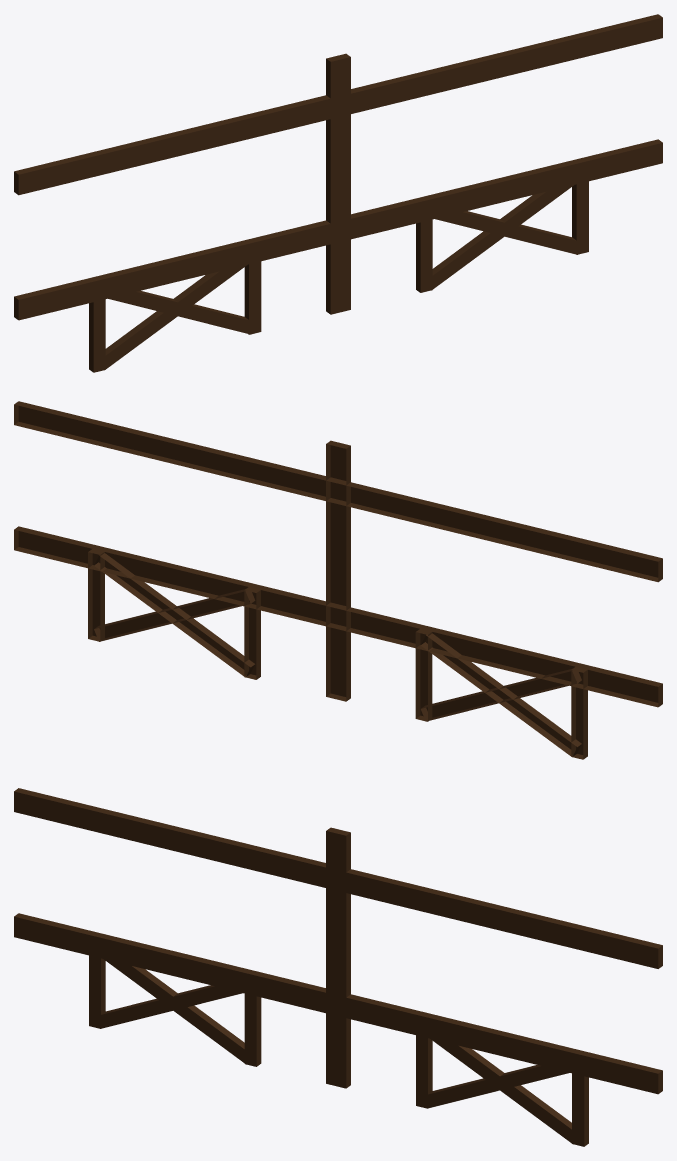
Rendered from Long Side Small Part 2.fbx.
The picture shows the model from 3 angles, top to bottom: view 1: azimuth 30°, elevation 25°; view 2: azimuth 150°, elevation 25°; view 3: azimuth 330°, elevation 25°; orthographic projection.
Visible parts, largest first — view 1: Long_Side_House_2; view 2: Long_Side_House_2; view 3: Long_Side_House_2.
Part boxes in pixels (box(x1,y1,x2,y2)): Long_Side_House_2: box(14, 14, 662, 372); Long_Side_House_2: box(14, 401, 662, 759); Long_Side_House_2: box(14, 788, 662, 1146).
Bounding box in the file's own units: 8 × 3.01 × 0.1.
